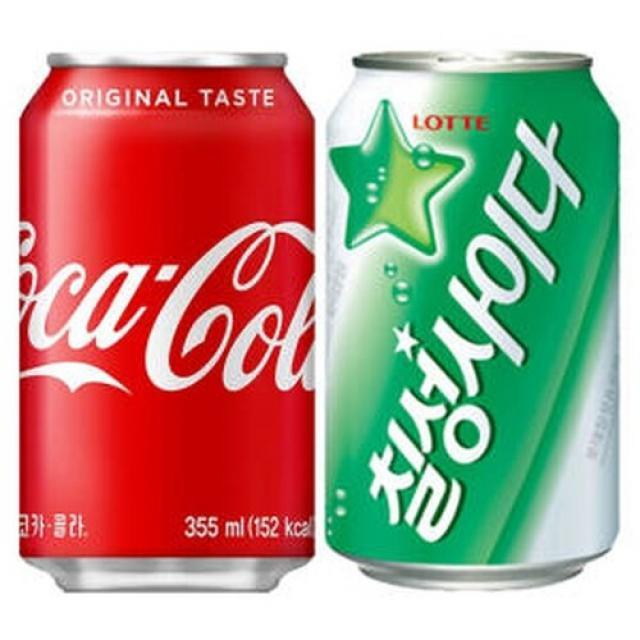coca-cola: (17, 49, 323, 604)
